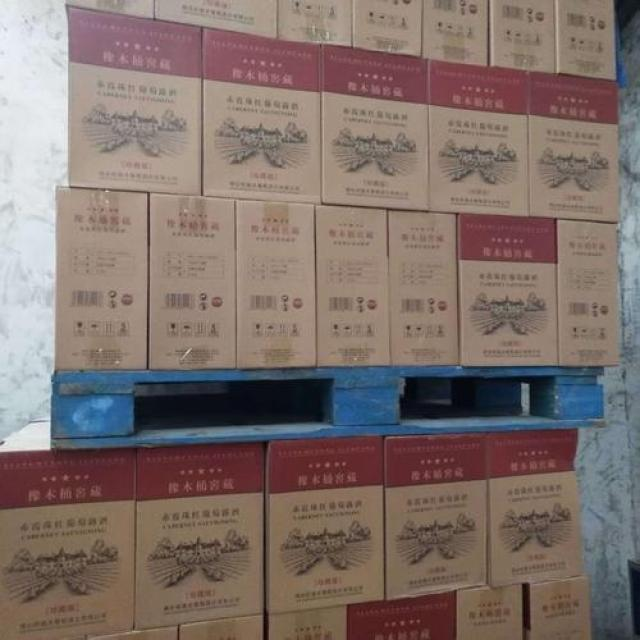box: (0, 421, 136, 639), (69, 8, 201, 197), (137, 440, 264, 628), (268, 435, 384, 614), (204, 27, 321, 204), (323, 44, 429, 210), (384, 433, 489, 598), (55, 187, 147, 369), (429, 60, 529, 216), (485, 430, 584, 586), (457, 214, 558, 365), (150, 193, 236, 369), (236, 200, 316, 369), (529, 72, 618, 221), (315, 205, 389, 366), (389, 211, 458, 364), (556, 219, 620, 365), (347, 591, 456, 640), (556, 0, 616, 81), (489, 0, 556, 72), (422, 0, 488, 65), (524, 576, 591, 640), (155, 0, 275, 35), (353, 0, 421, 55), (456, 584, 522, 640), (278, 0, 352, 46), (270, 604, 347, 640), (180, 614, 262, 640), (67, 0, 154, 18), (86, 627, 177, 640)
